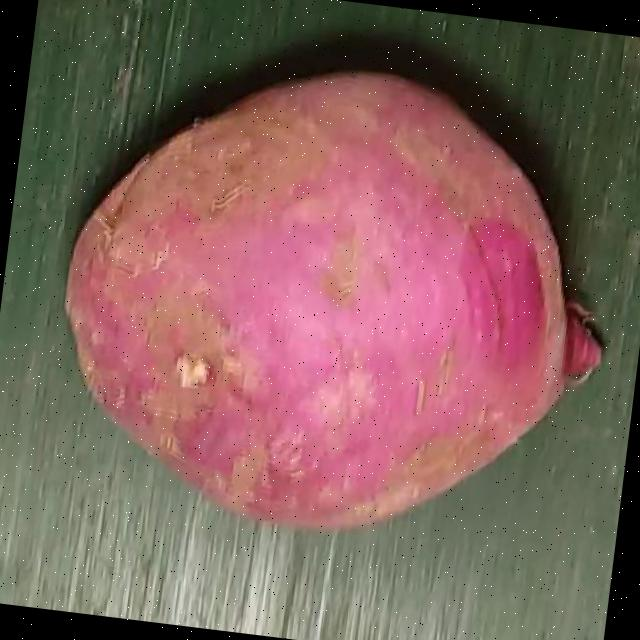Sweet Potato: (60, 70, 602, 531)
